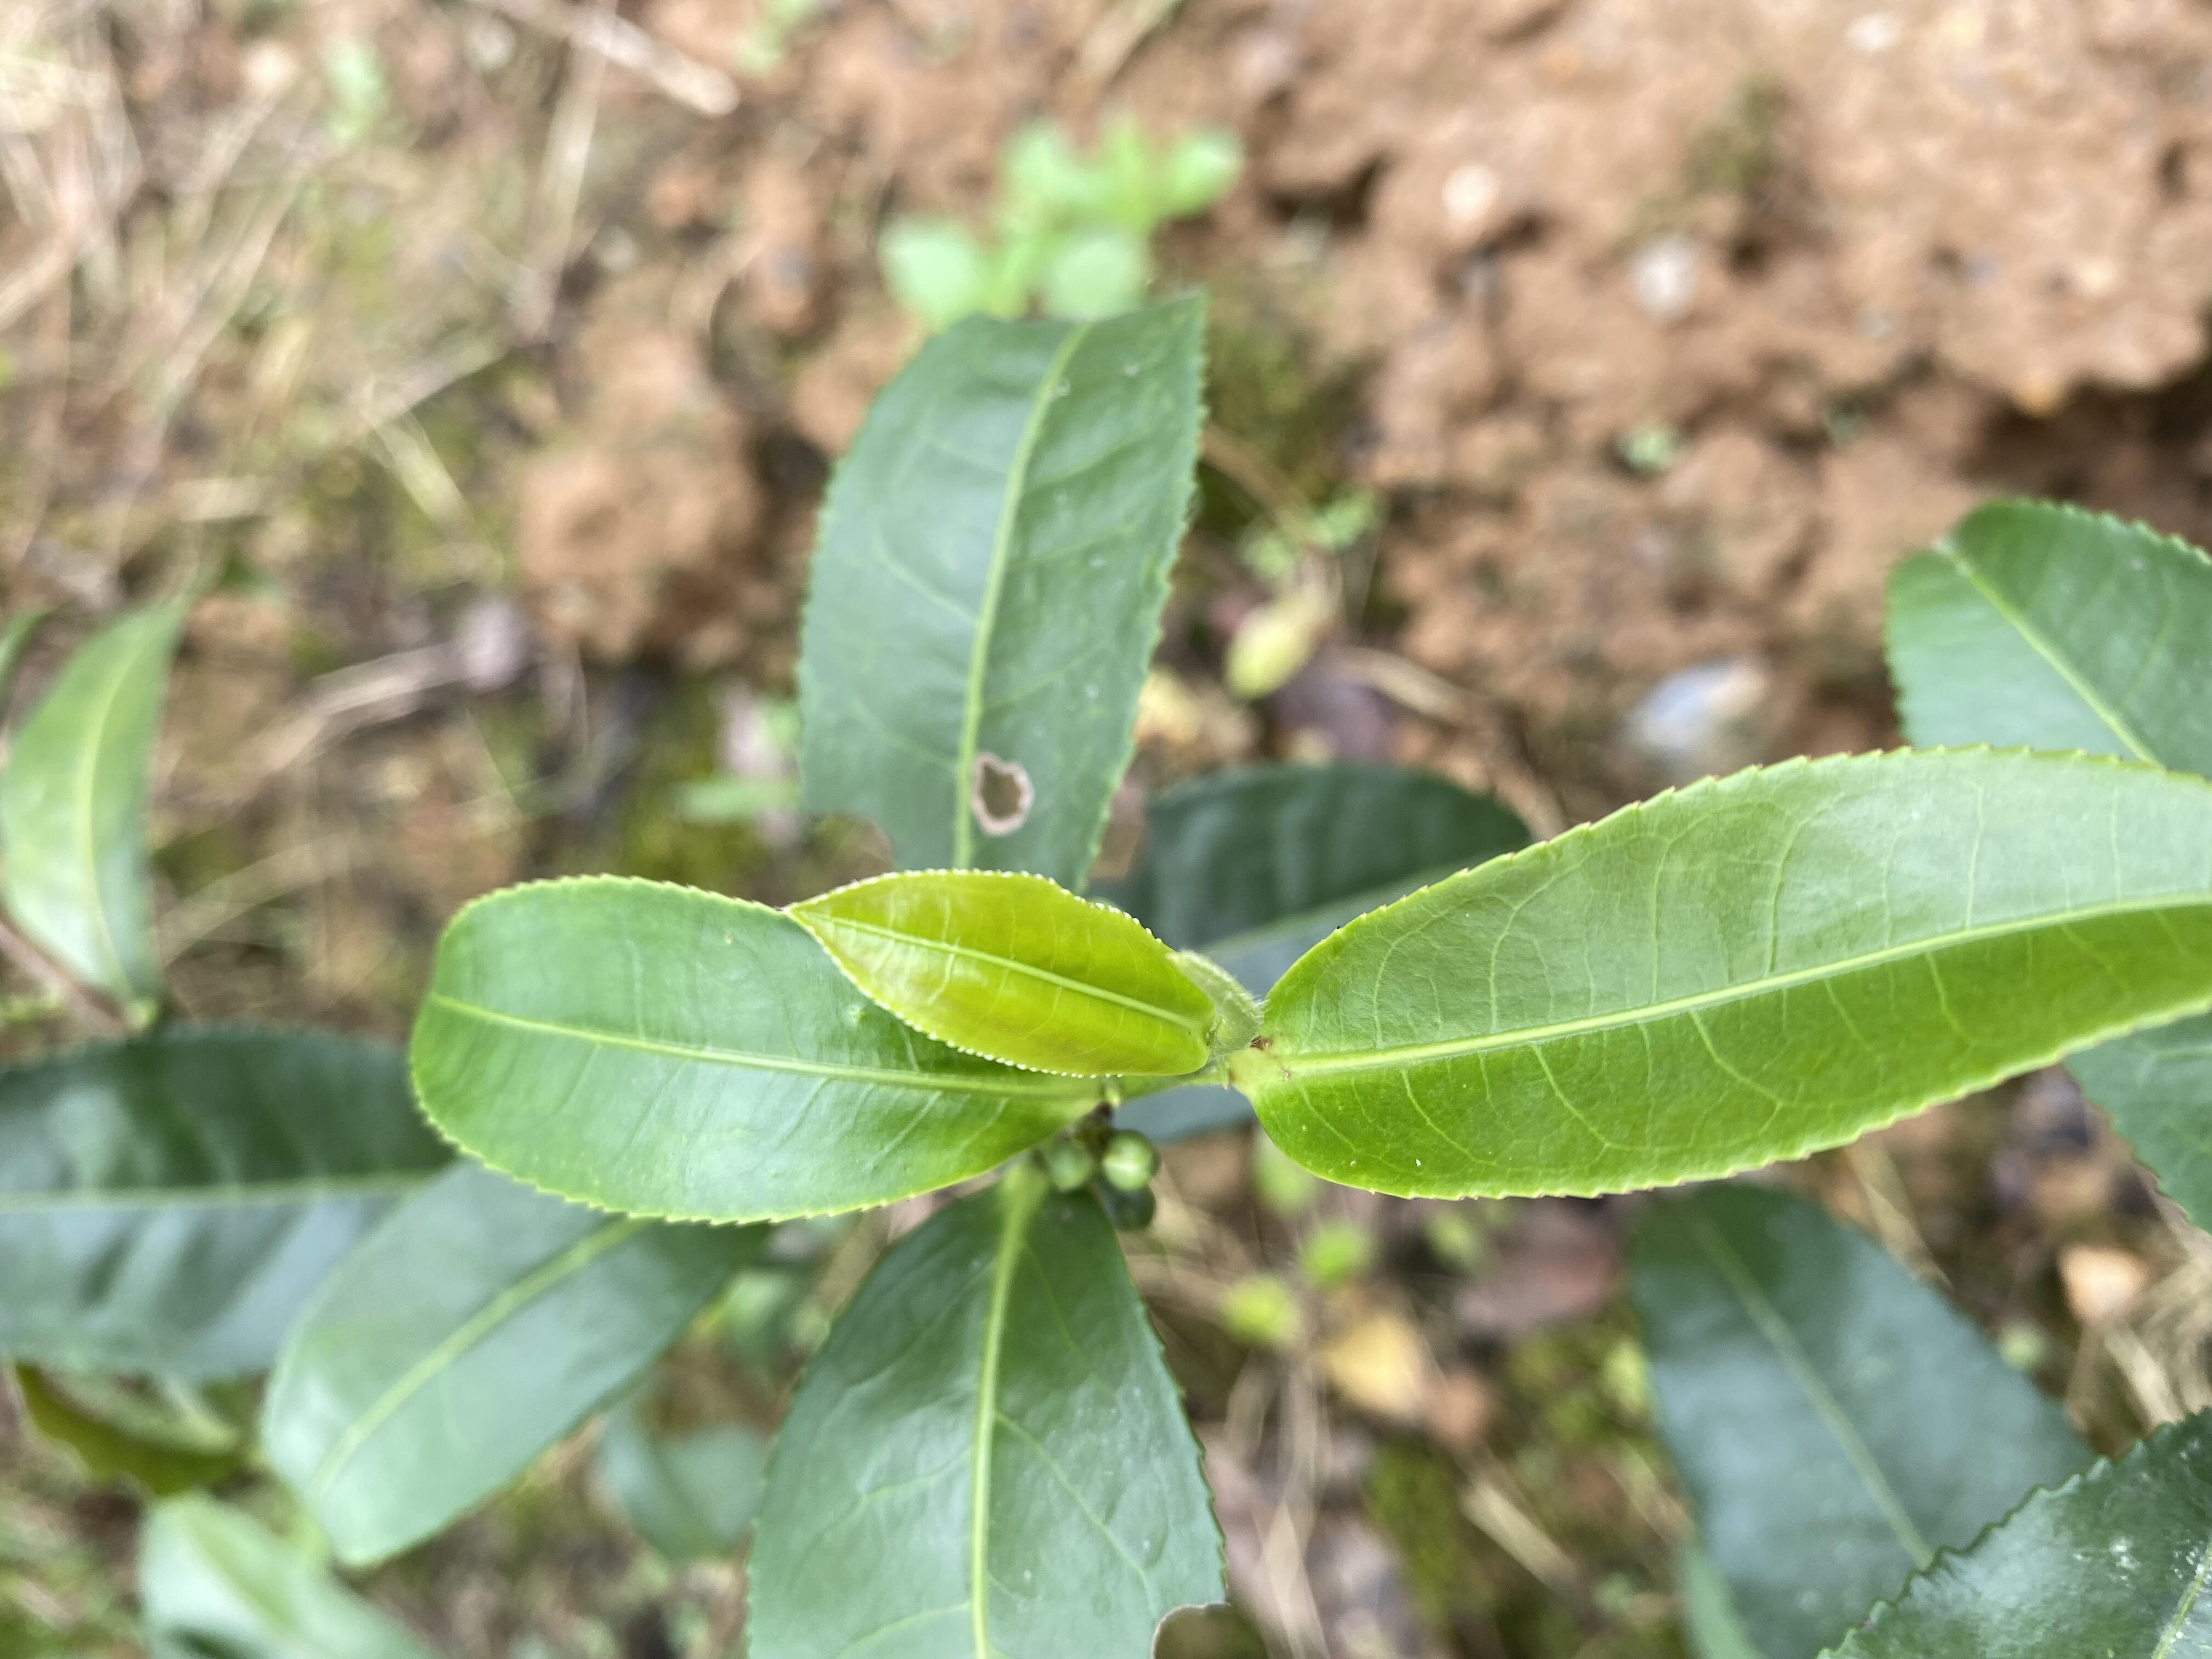chihuo_high: (792, 289, 1209, 896)
chihuo_low: (742, 1180, 1235, 1656)
healthy: (1240, 741, 2207, 1206), (404, 875, 1122, 1227), (782, 866, 1221, 1082)
